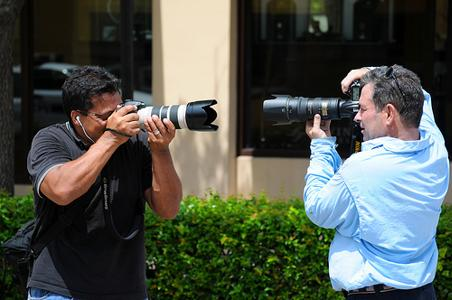person: (25, 64, 184, 300)
